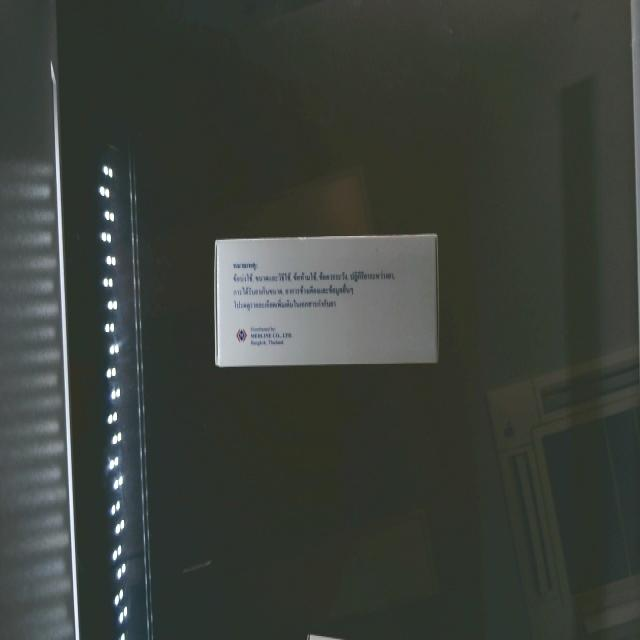sefloc: (214, 233, 440, 366)
